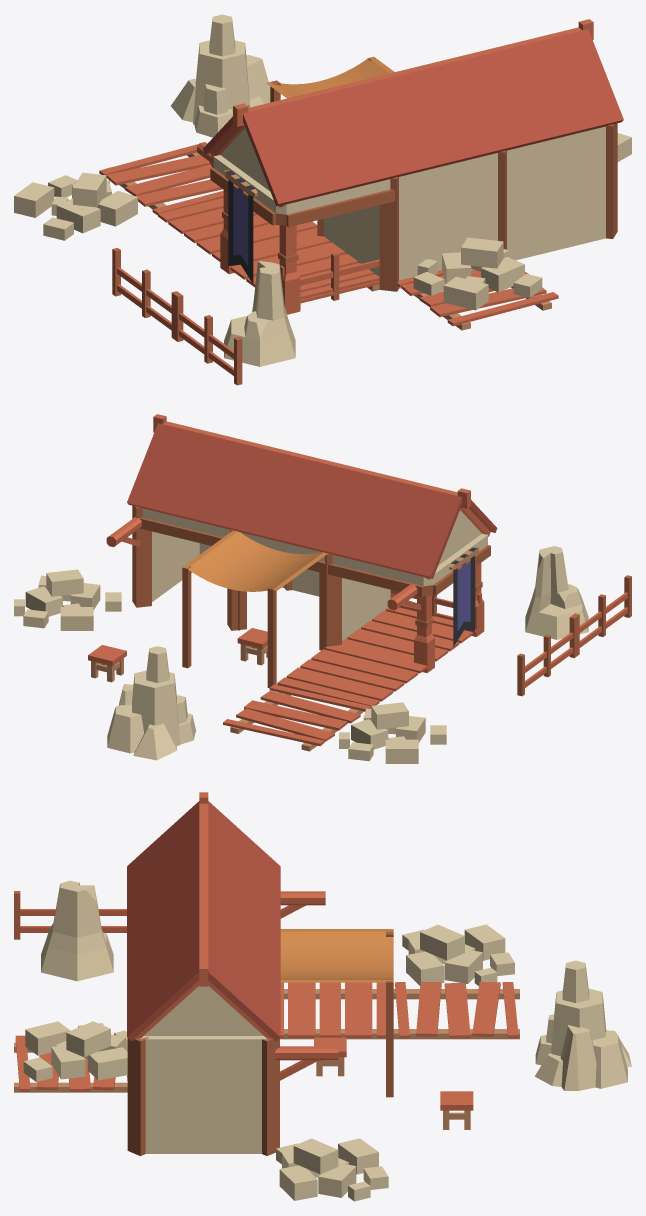
Rendered from atelier_de_taille_de_pierre.glb.
3 views of the same model, one above another, from view 1: azimuth 30°, elevation 25°; view 2: azimuth 150°, elevation 25°; view 3: azimuth 270°, elevation 25° (orthographic). The views are drawn at different scales.
Parts seen in each view (by area): view 1: mergedBlocks(Clone); view 2: mergedBlocks(Clone); view 3: mergedBlocks(Clone).
Boxes of the visible parts, bbox=[...] form: mergedBlocks(Clone): bbox=[14, 14, 631, 385]; mergedBlocks(Clone): bbox=[14, 414, 631, 763]; mergedBlocks(Clone): bbox=[14, 792, 631, 1201].
Size of the model in its own units: 4.95 by 1.66 by 4.89.
1 material, 1 textured.
